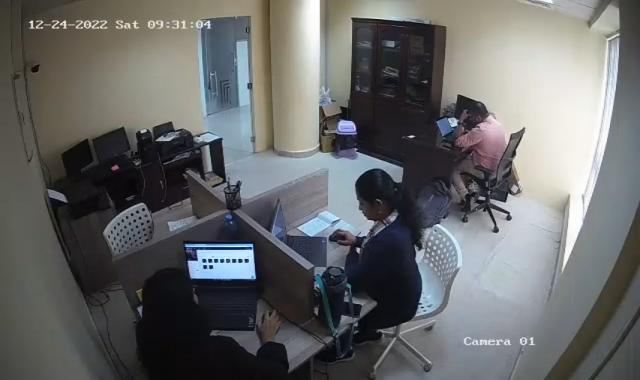no_hairnet: (146, 268, 199, 328), (354, 167, 396, 221), (472, 98, 488, 124)
